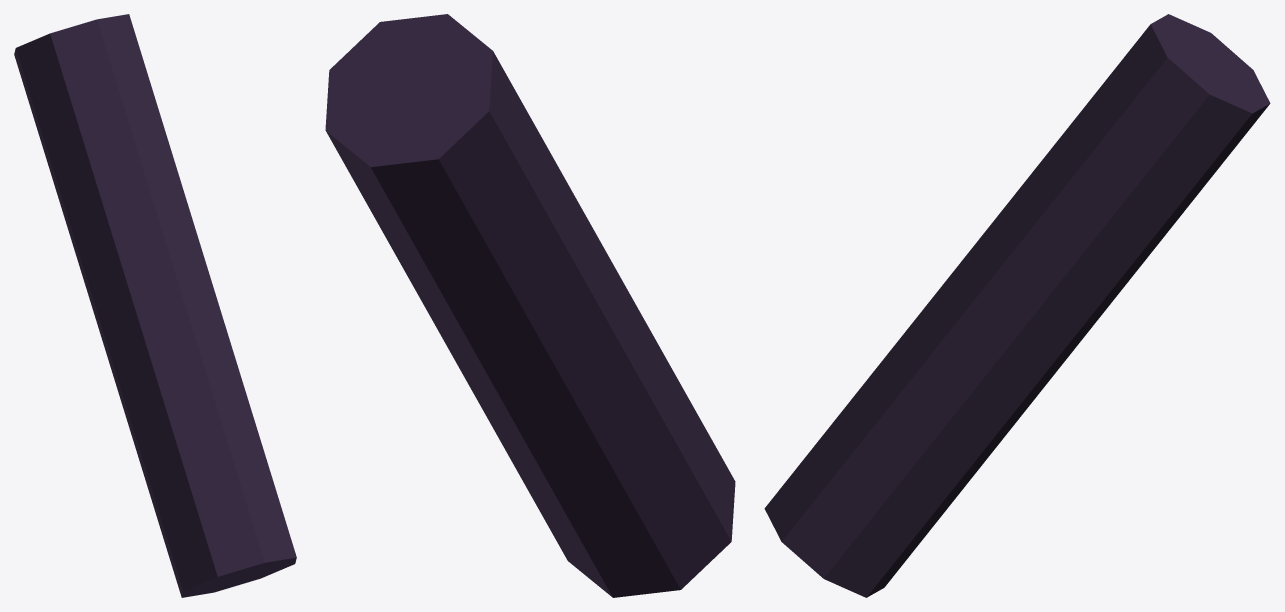
Rendered from Heavenly Fire_Cannon barrel.fbx.
3 renders of one model, left to right at view 1: azimuth 30°, elevation 25°; view 2: azimuth 150°, elevation 25°; view 3: azimuth 270°, elevation 25°, orthographic. The views are drawn at different scales.
Visible parts, largest first — view 1: Heavenly Fire_Cannon barrel_Baked; view 2: Heavenly Fire_Cannon barrel_Baked; view 3: Heavenly Fire_Cannon barrel_Baked.
Boxes of the visible parts, x1,y1,x2,y2 form: Heavenly Fire_Cannon barrel_Baked: (14,14,296,597); Heavenly Fire_Cannon barrel_Baked: (325,14,735,597); Heavenly Fire_Cannon barrel_Baked: (764,14,1270,597).
Bounding box in the file's own units: 33.9 × 142 × 116.
1 material, 1 textured.
